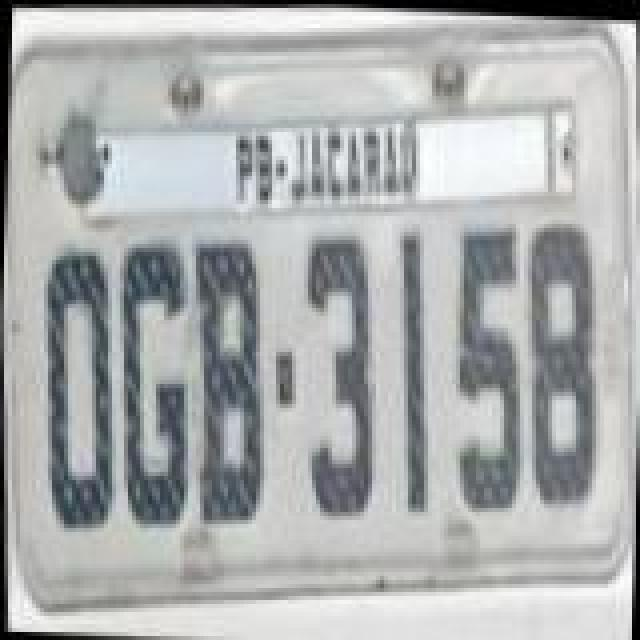1: (388, 230, 440, 522)
3: (286, 222, 382, 522)
5: (438, 218, 534, 518)
8: (512, 208, 608, 508)
B: (178, 232, 274, 532)
G: (102, 230, 198, 530)
O: (32, 246, 124, 538)
